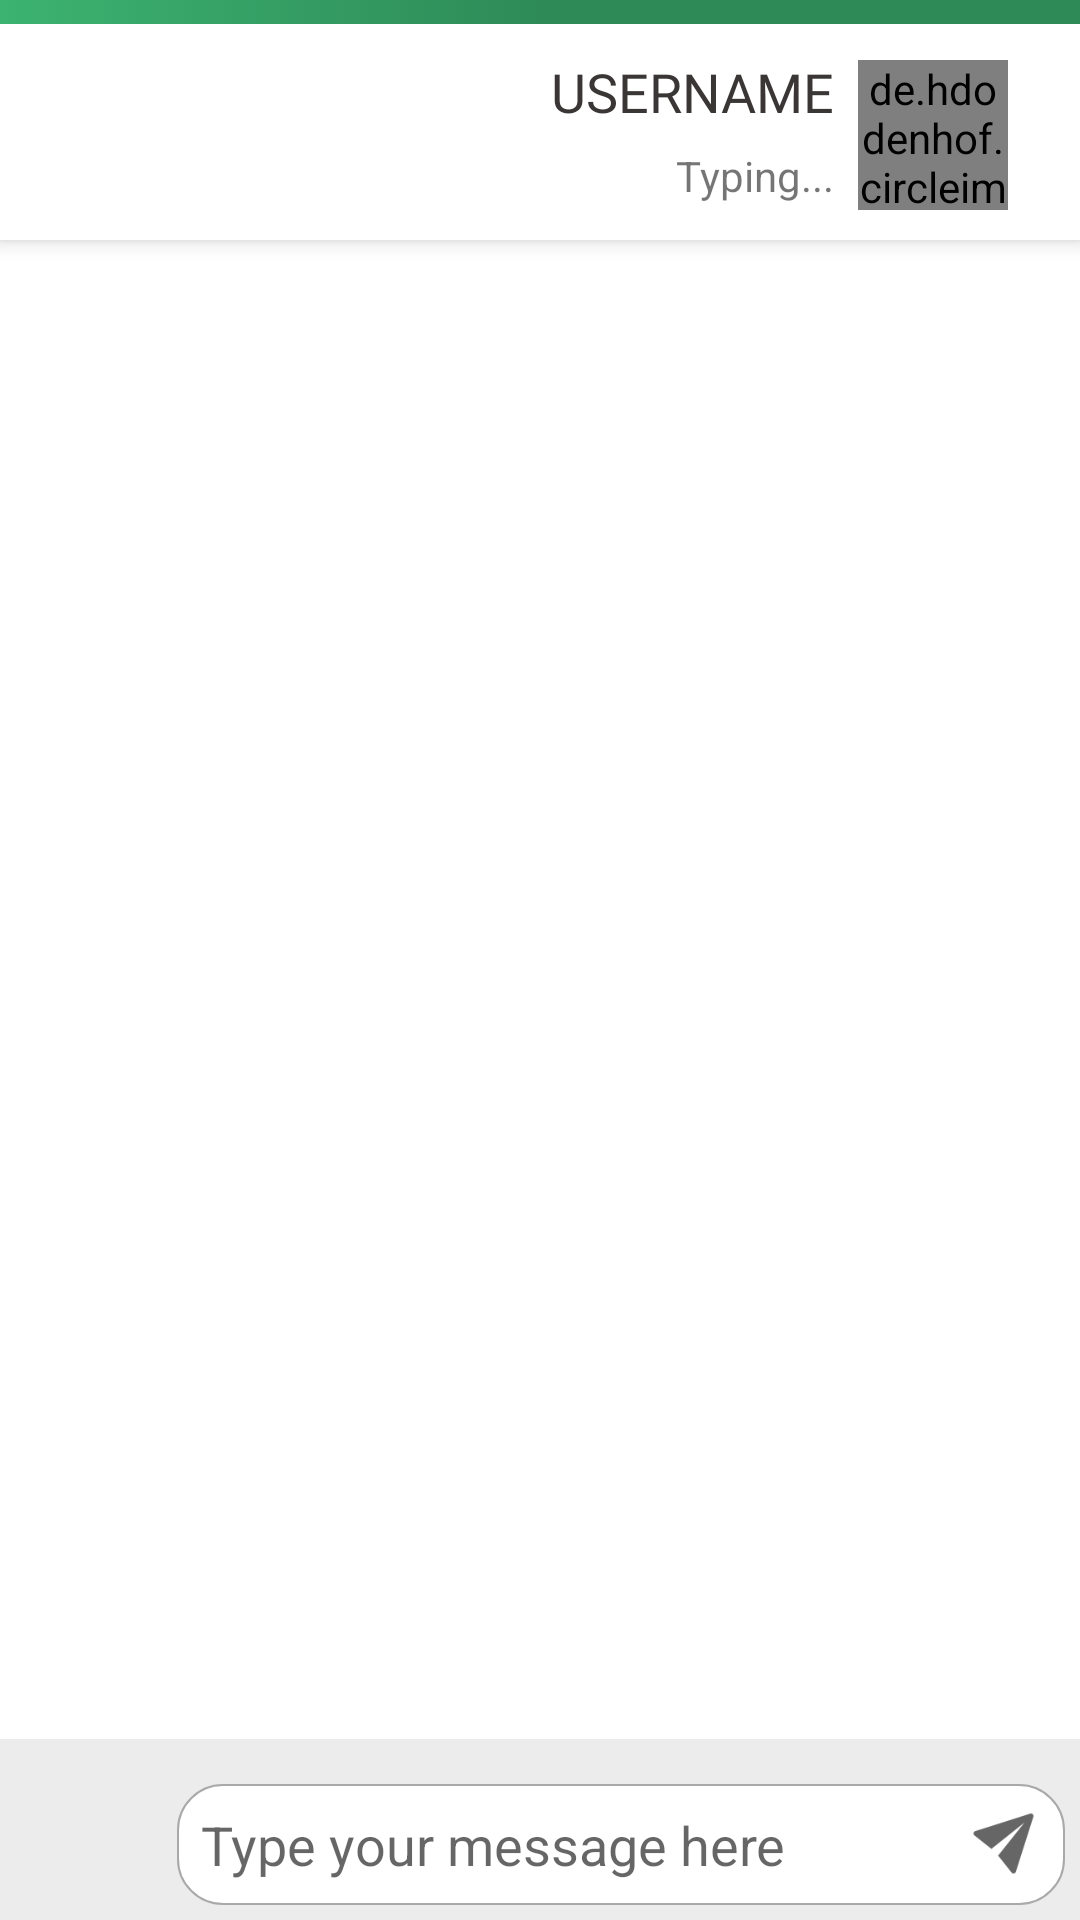

Icons on this 1080w x 1920h Android screen, each with its box as bbox=[x1, y1, x2, y2]:
send: bbox=[973, 1813, 1034, 1874]
